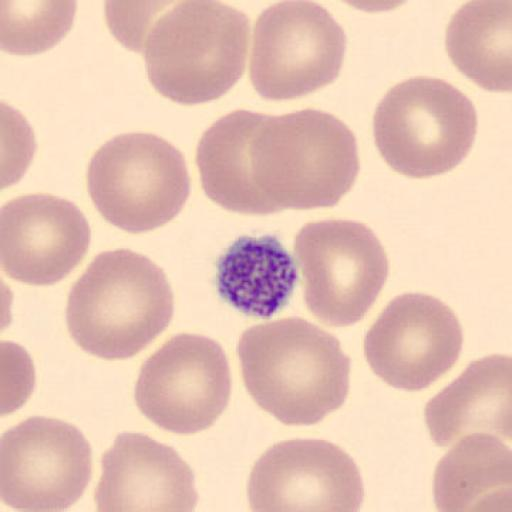Platelet: (210, 232, 302, 319)
RBC: (235, 314, 352, 428), (62, 246, 176, 362), (248, 105, 362, 212), (84, 129, 192, 236), (370, 74, 479, 180), (142, 0, 249, 106), (292, 217, 391, 329), (361, 289, 465, 394), (194, 106, 292, 217), (132, 330, 234, 436), (248, 1, 348, 102), (421, 352, 512, 455), (245, 435, 367, 511), (1, 413, 94, 512), (93, 430, 201, 512), (2, 190, 92, 288), (101, 0, 224, 56), (431, 431, 512, 512), (443, 0, 512, 94), (2, 0, 80, 58), (2, 96, 38, 192), (2, 337, 38, 418), (318, 0, 424, 16), (459, 484, 511, 512), (0, 271, 16, 338)
